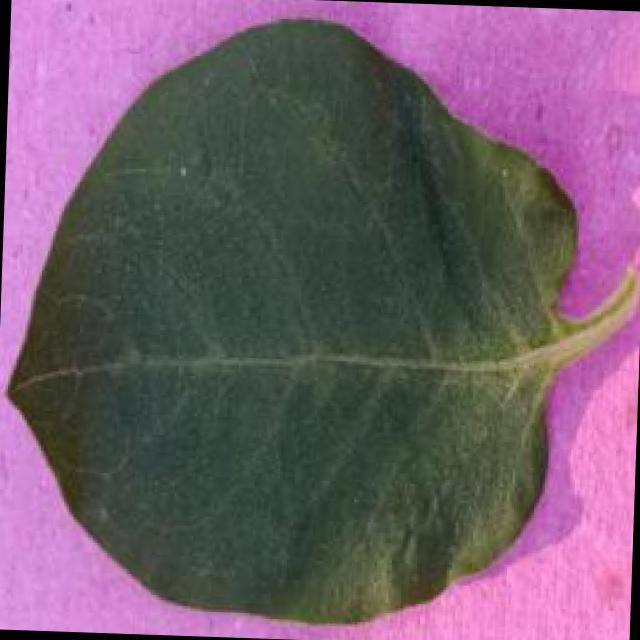Potato_Healthy: (0, 6, 639, 628)
